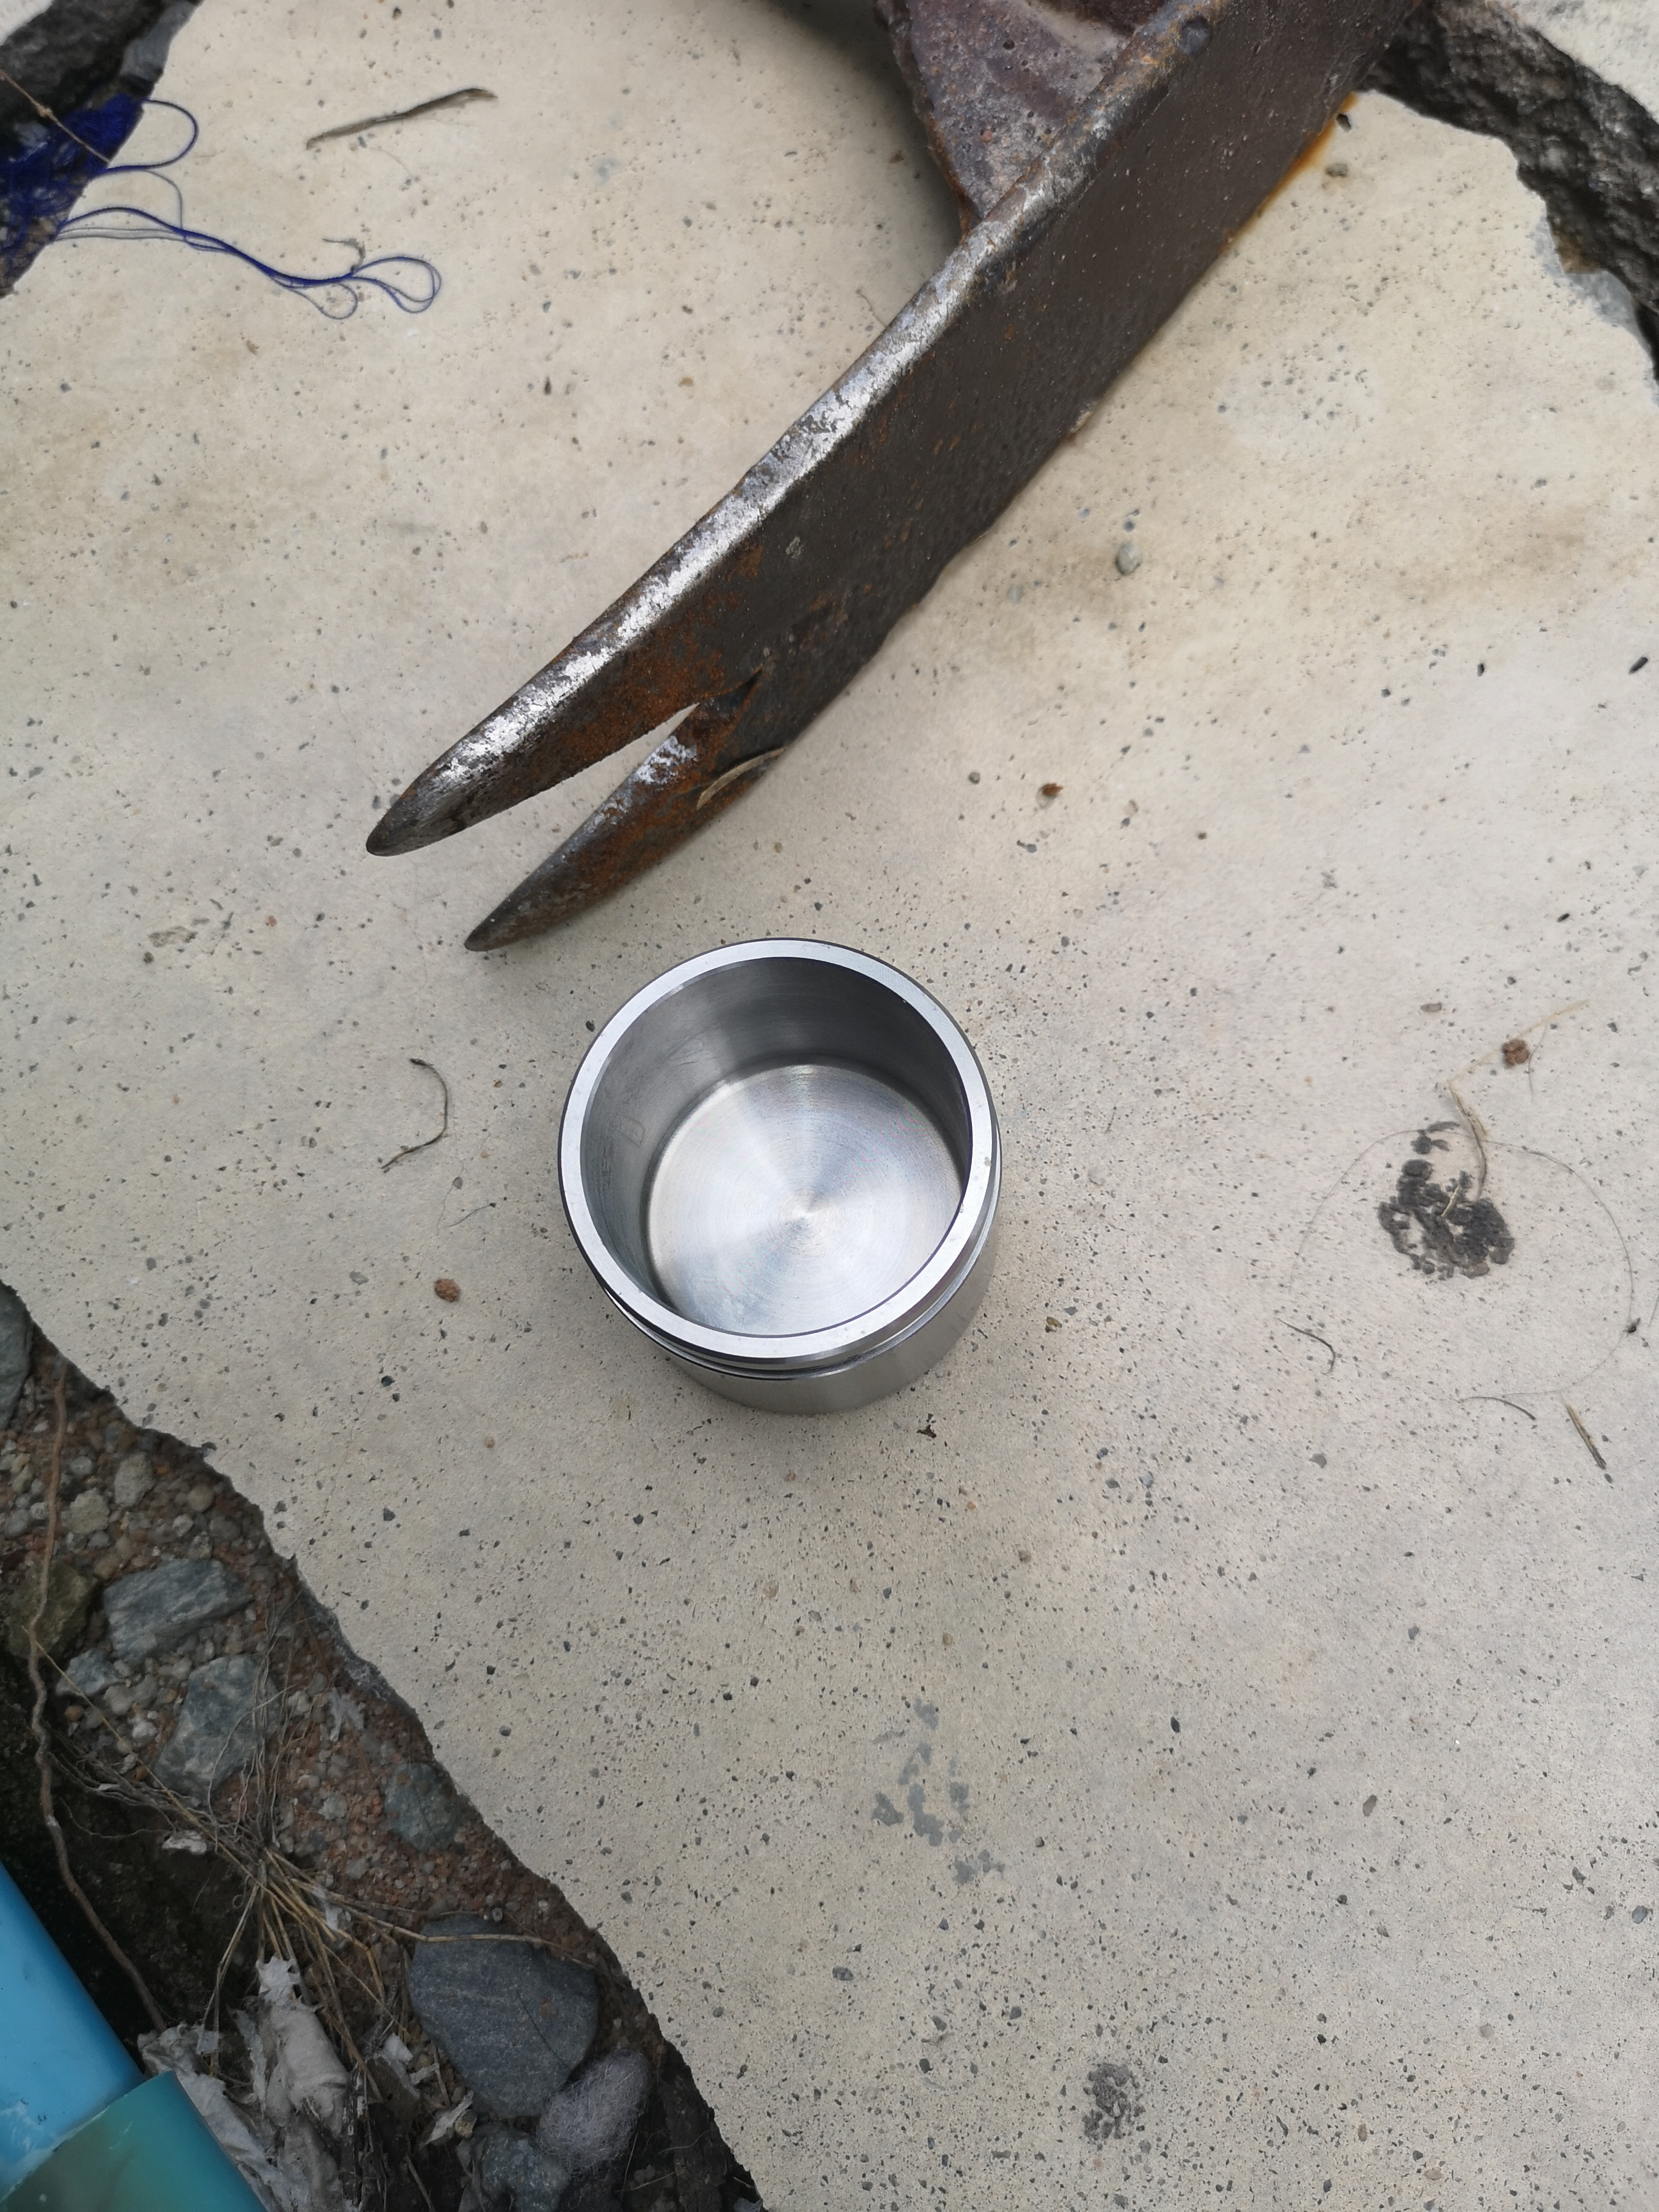ลูกสูบดิสเบรค: (544, 925, 1066, 1446)
